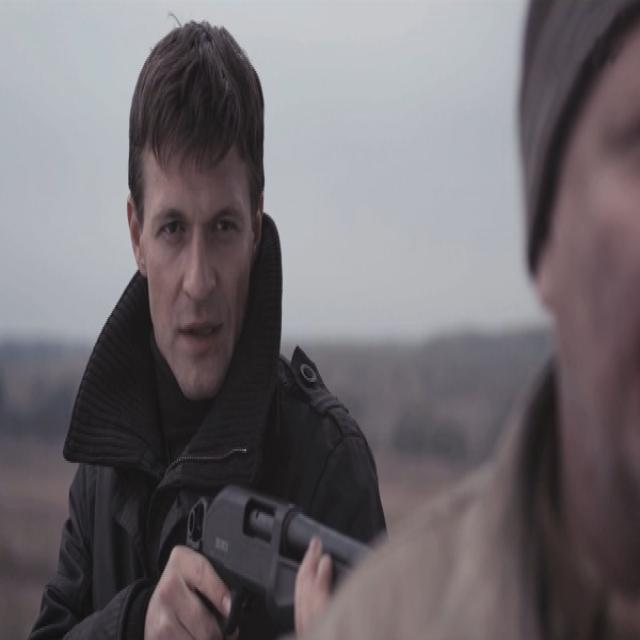rifle: (180, 484, 372, 619)
